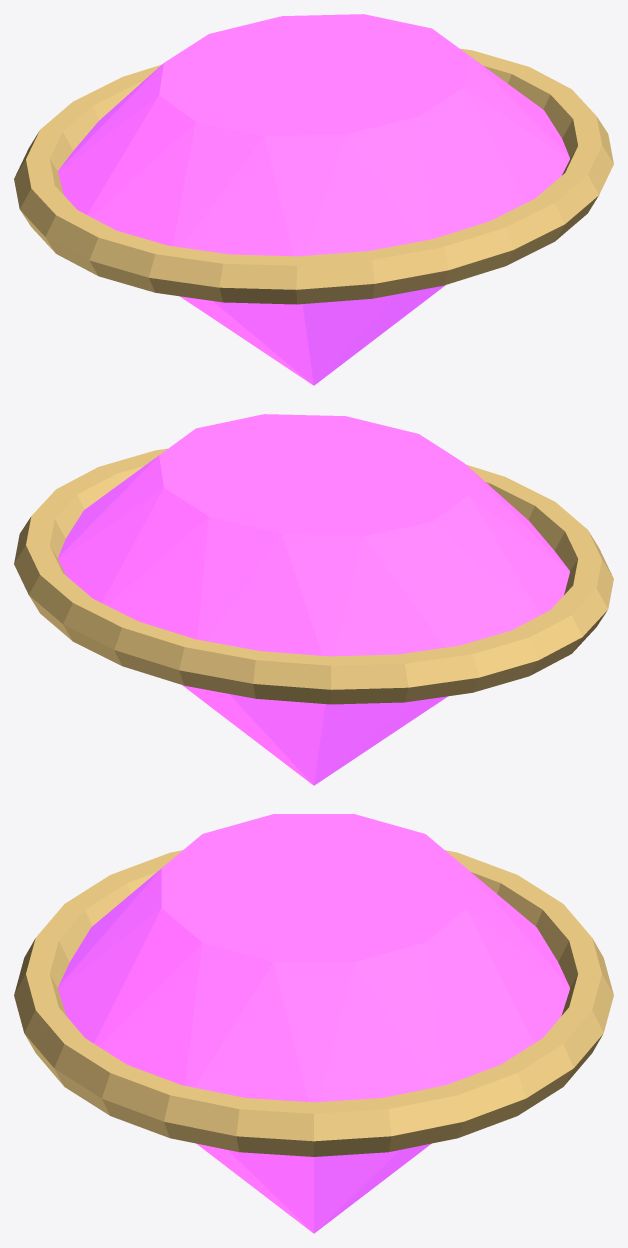
File: gem_amethyst_royal.glb
The picture shows the model from 3 angles, top to bottom: view 1: azimuth 30°, elevation 25°; view 2: azimuth 150°, elevation 25°; view 3: azimuth 270°, elevation 25°; orthographic projection. The views are drawn at different scales.
Parts seen in each view (by area): view 1: gem_amethyst_5, Torus; view 2: gem_amethyst_5, Torus; view 3: gem_amethyst_5, Torus.
Part boxes in pixels (x1,y1,x2,y2): gem_amethyst_5: (58, 14, 569, 385); Torus: (14, 48, 613, 304); gem_amethyst_5: (58, 414, 569, 785); Torus: (14, 448, 613, 704); gem_amethyst_5: (58, 814, 569, 1233); Torus: (14, 850, 613, 1156).
Size of the model in its own units: 0.1509 by 0.0834 by 0.1312.
